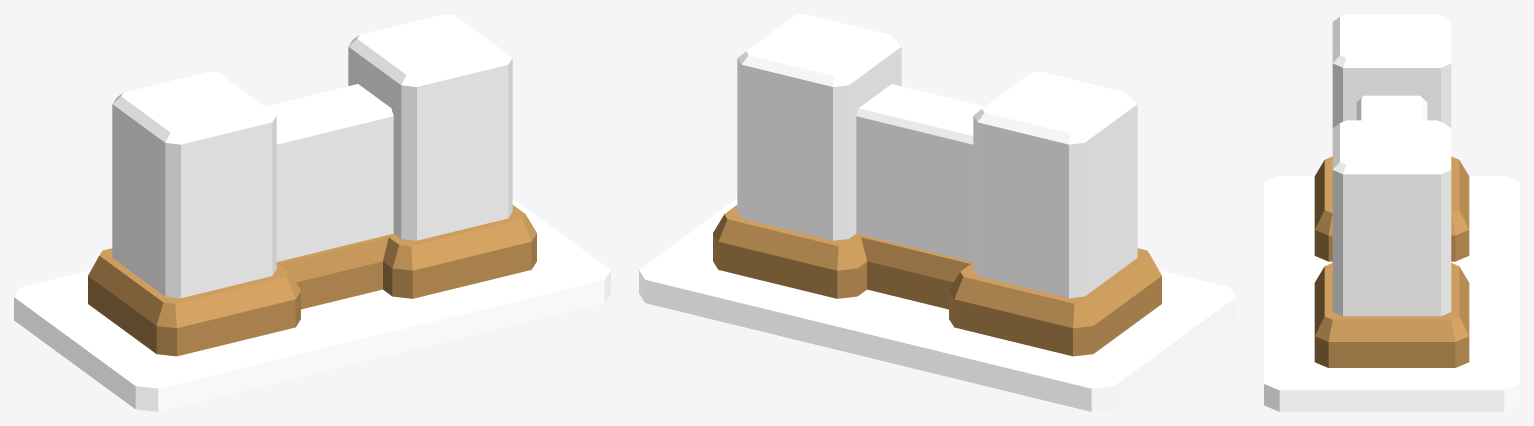
Rendered from walls.glb.
3 renders of one model, left to right at view 1: azimuth 30°, elevation 25°; view 2: azimuth 150°, elevation 25°; view 3: azimuth 270°, elevation 25°, orthographic. The views are drawn at different scales.
Visible parts, largest first — view 1: Cube_0, Cube.006_6, Cube.002_2, Cube.003_3, Cube.008_8, Cube.001_1, Cube.007_7, Cube.004_4, Cube.005_5; view 2: Cube_0, Cube.006_6, Cube.002_2, Cube.003_3, Cube.008_8, Cube.001_1, Cube.007_7, Cube.004_4, Cube.005_5; view 3: Cube.006_6, Cube.008_8, Cube_0, Cube.002_2, Cube.007_7, Cube.005_5, Cube.001_1, Cube.003_3.
Boxes of the visible parts, x1,y1,x2,y2 form: Cube_0: [112, 71, 276, 298]; Cube.006_6: [348, 14, 512, 240]; Cube.002_2: [14, 270, 368, 411]; Cube.003_3: [265, 84, 393, 261]; Cube.008_8: [345, 198, 610, 354]; Cube.001_1: [88, 248, 300, 356]; Cube.007_7: [383, 205, 536, 298]; Cube.004_4: [276, 235, 395, 309]; Cube.005_5: [287, 284, 497, 379]; Cube_0: [973, 71, 1137, 298]; Cube.006_6: [737, 14, 901, 240]; Cube.002_2: [881, 270, 1235, 411]; Cube.003_3: [856, 84, 984, 261]; Cube.008_8: [639, 198, 904, 354]; Cube.001_1: [949, 248, 1161, 356]; Cube.007_7: [713, 205, 866, 298]; Cube.004_4: [854, 235, 973, 309]; Cube.005_5: [761, 284, 962, 379]; Cube.006_6: [1332, 120, 1451, 316]; Cube.008_8: [1264, 289, 1519, 411]; Cube_0: [1332, 14, 1451, 127]; Cube.002_2: [1264, 176, 1519, 278]; Cube.007_7: [1314, 263, 1469, 367]; Cube.005_5: [1264, 238, 1519, 336]; Cube.001_1: [1314, 156, 1469, 261]; Cube.003_3: [1356, 95, 1427, 120].
Size of the model in its own units: 8.54 by 4 by 4.3.
